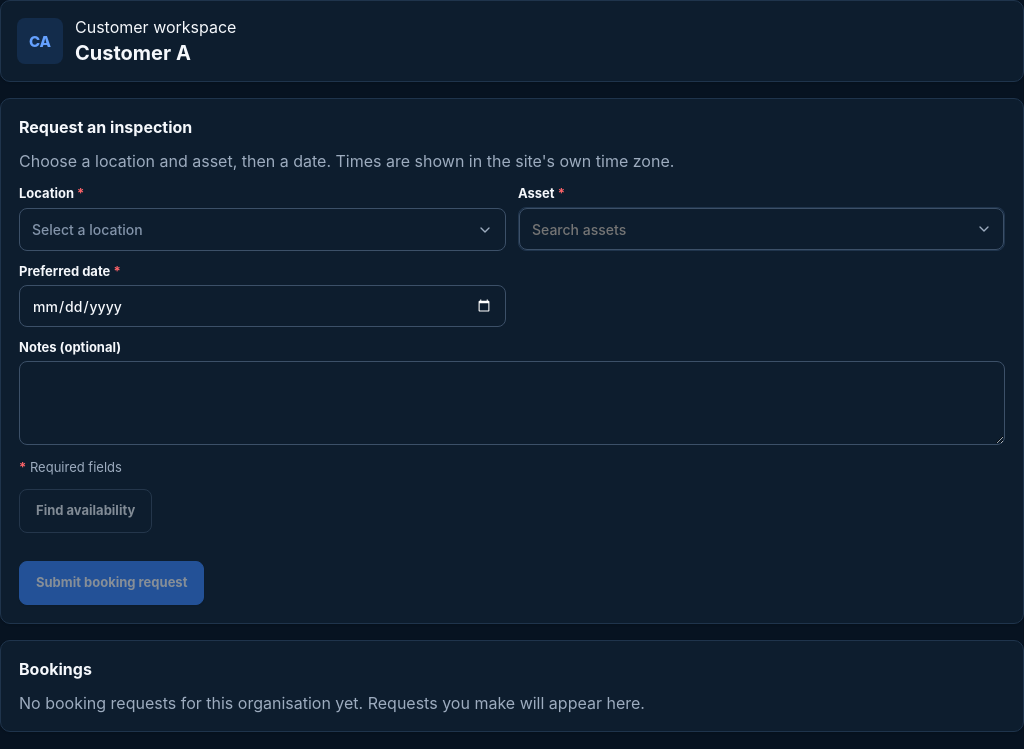
Test: availability selection › shows the site's time zone next to the times, whatever zone the browser is in
Click the dropdown named "Booking location" at (87, 230), box [19,208,506,251]
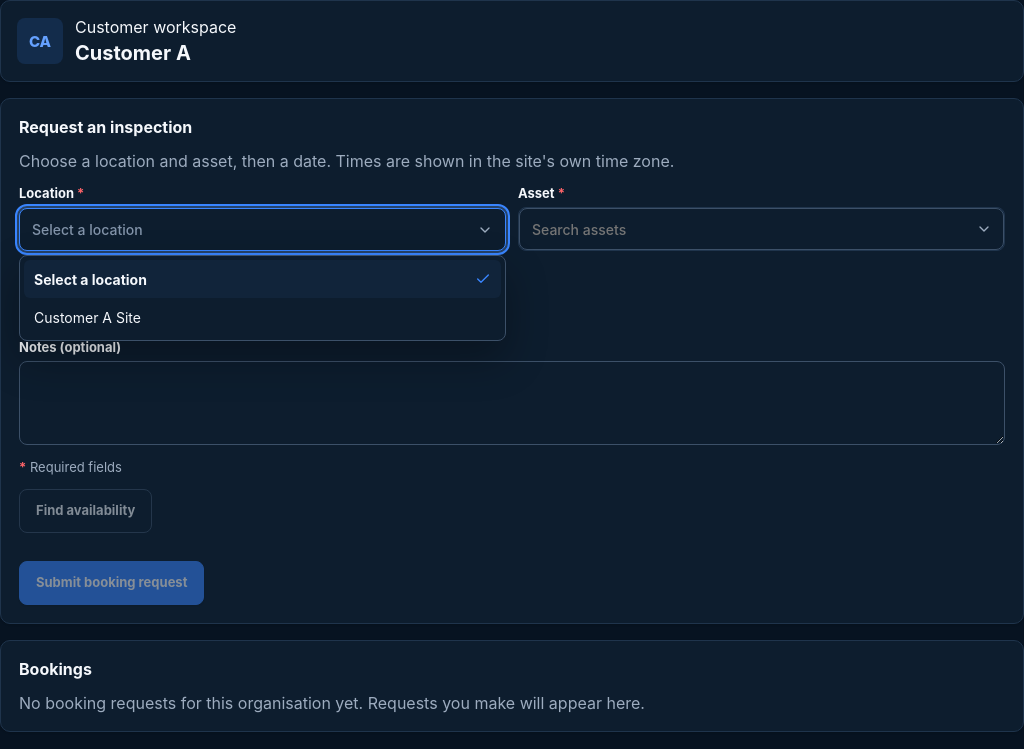
Click the option "Customer A Site" at (88, 317), box [34,308,141,326]
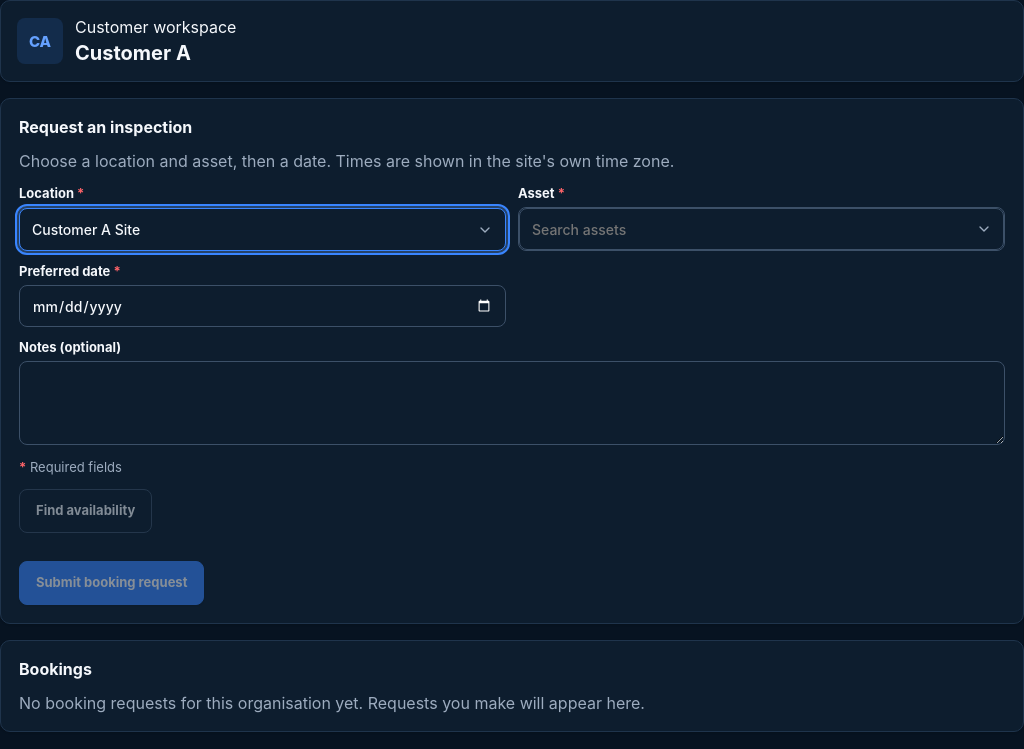
Click the dropdown named "Booking asset" at (762, 229), box [519,208,1004,250]
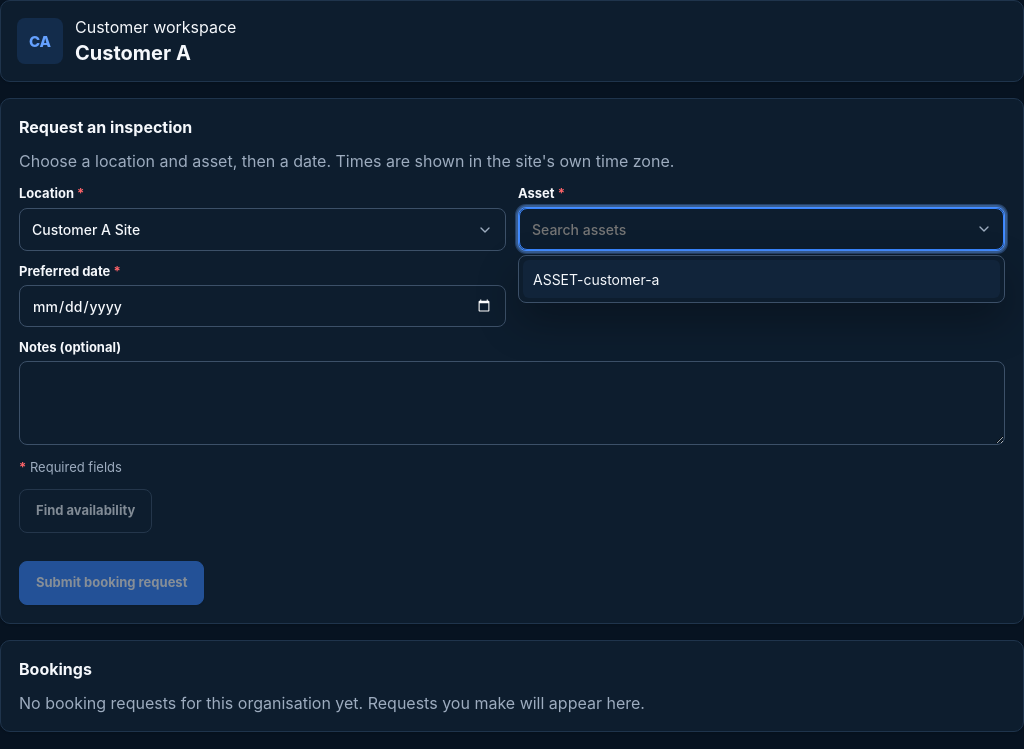
Click the option "ASSET-customer-a" at (596, 279), box [523,260,1000,298]
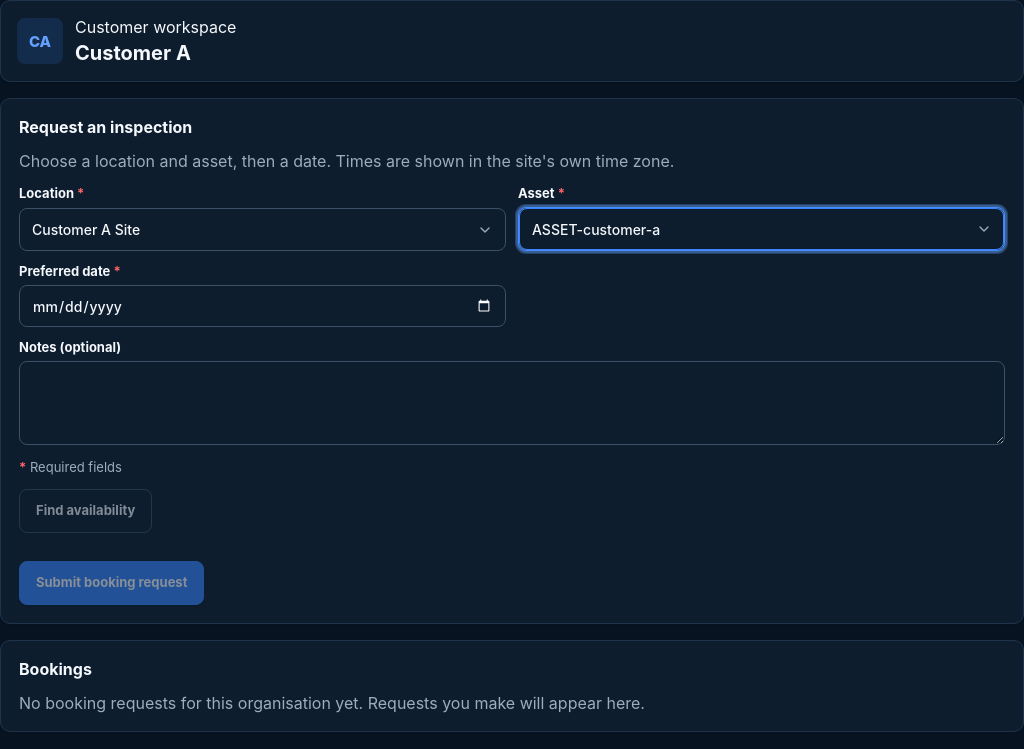
Type "2027-10-04" into the date field labelled "Preferred date" at (262, 306), box [19,285,506,327]
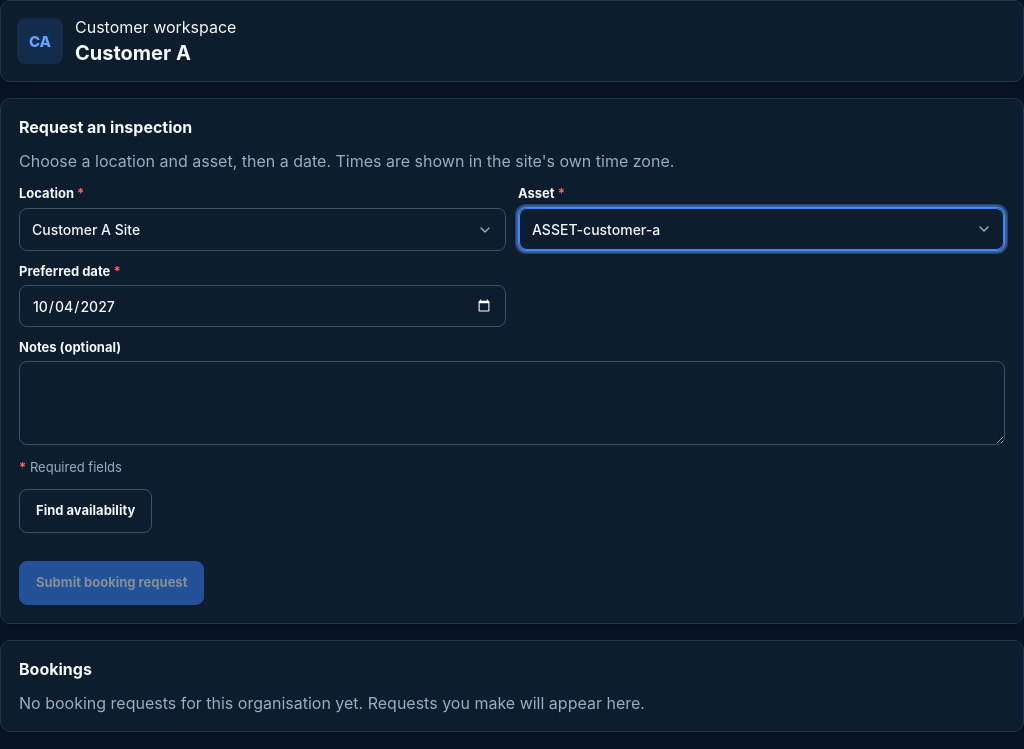
Click the button "Find availability" at (86, 511), box [19,489,152,533]
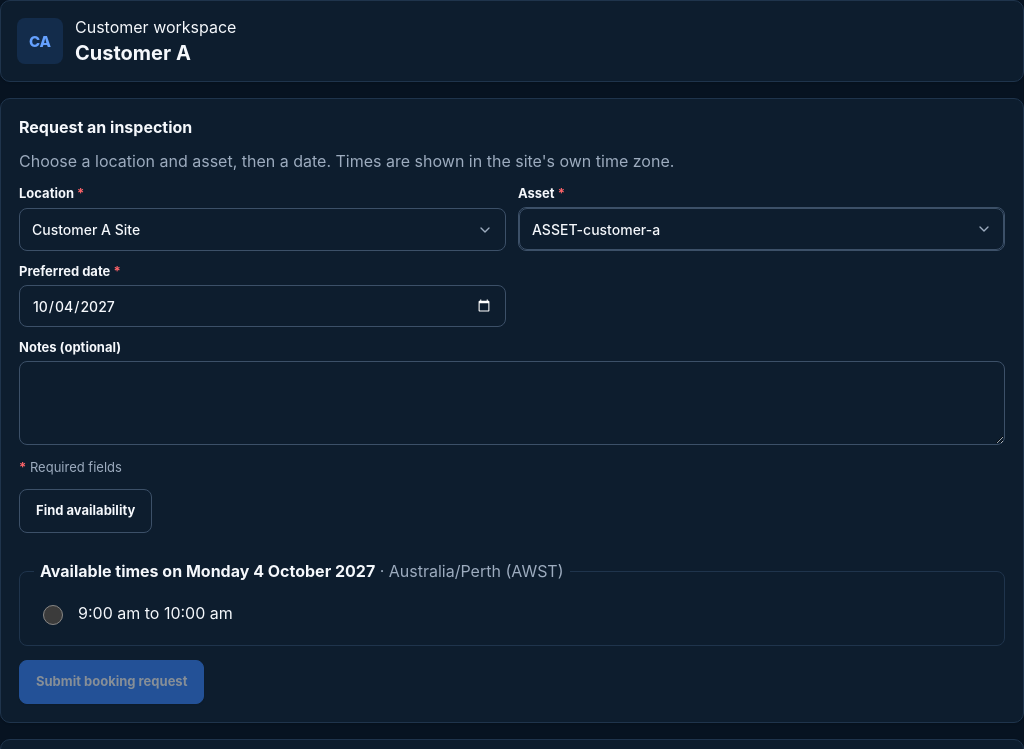
Result: the element "Available times on Monday 4 October 2027" shows "Australia/Perth" at [389,561,564,581]
Result: the text "9:00 am to 10:00 am" is shown at [78,603,233,623]
